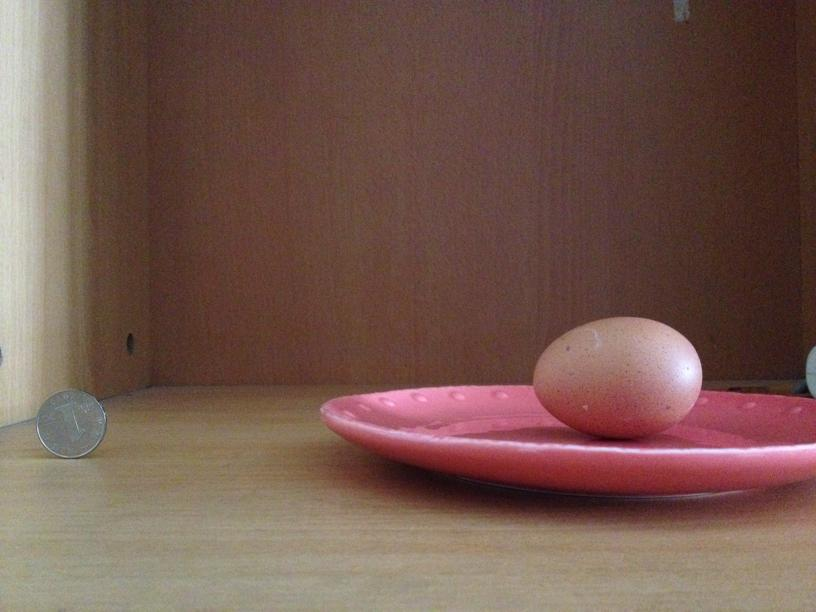coin: (34, 390, 107, 460)
egg: (530, 317, 704, 440)
